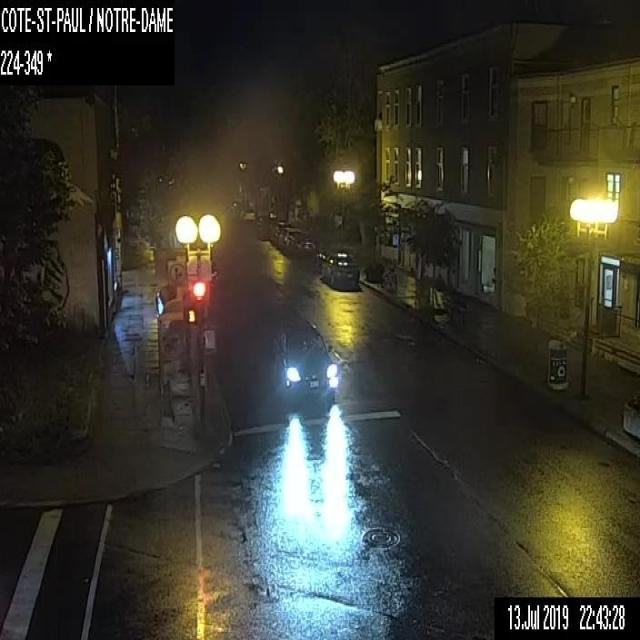vehicle: (269, 317, 338, 405), (319, 247, 359, 287), (286, 232, 316, 262), (277, 227, 301, 254), (239, 207, 255, 220)
